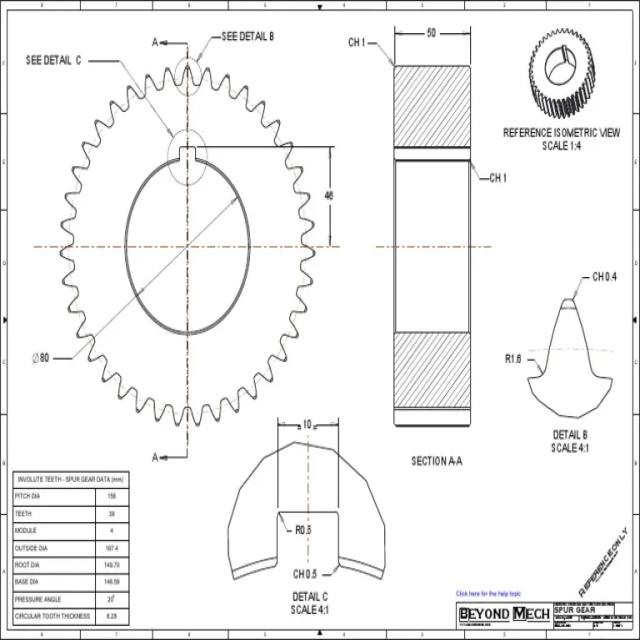Detail view: (222, 417, 395, 621), (502, 264, 624, 461)
Isometric view: (497, 22, 624, 164)
Sectional view: (346, 20, 510, 473)
Table 1: (7, 468, 136, 628)
Table 2: (454, 588, 634, 635)
Top view: (20, 22, 338, 462)
